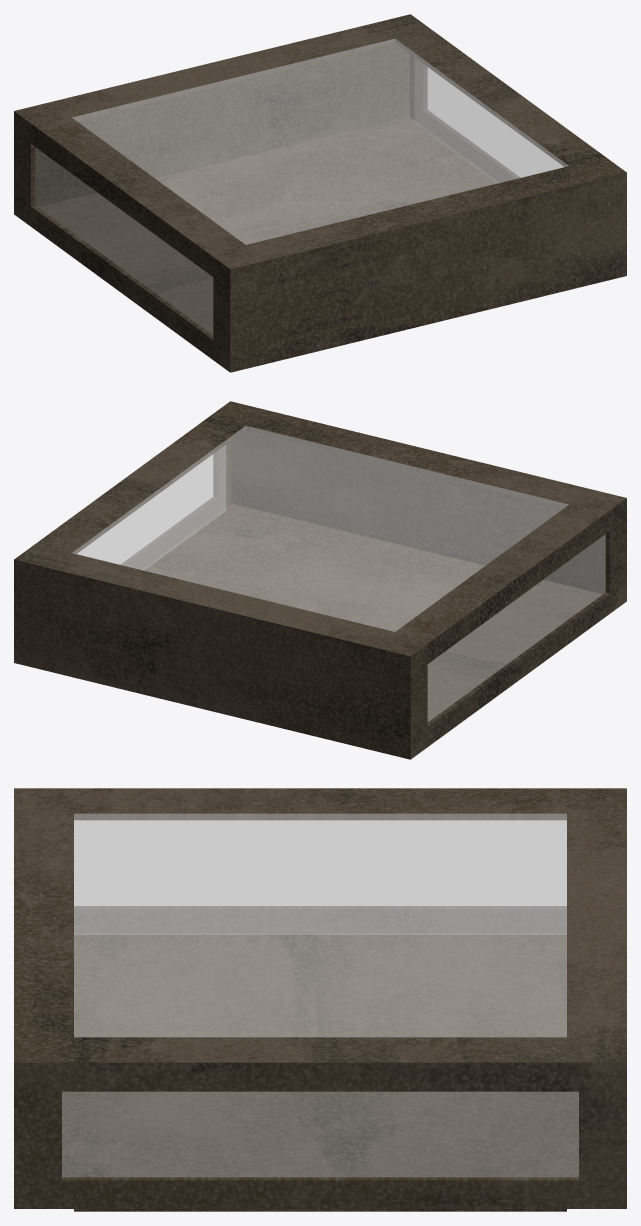
The model's file is living_table.fbx.
3 views of the same model, one above another, from view 1: azimuth 30°, elevation 25°; view 2: azimuth 150°, elevation 25°; view 3: azimuth 270°, elevation 25° (orthographic). The views are drawn at different scales.
Visible parts, largest first — view 1: 立方体.033, 立方体.031, 立方体.032; view 2: 立方体.033, 立方体.031, 立方体.032; view 3: 立方体.033, 立方体.031, 立方体.032, 立方体.056.
Part boxes in pixels (left/top/right/bottom): 立方体.033: left=14, top=14, right=626, bottom=372; 立方体.031: left=72, top=39, right=568, bottom=244; 立方体.032: left=35, top=58, right=563, bottom=334; 立方体.033: left=14, top=401, right=626, bottom=759; 立方体.031: left=72, top=426, right=568, bottom=631; 立方体.032: left=77, top=445, right=605, bottom=721; 立方体.033: left=14, top=788, right=626, bottom=1208; 立方体.031: left=74, top=813, right=566, bottom=1037; 立方体.032: left=62, top=820, right=578, bottom=1177; 立方体.056: left=74, top=1209, right=566, bottom=1211.
Size of what is drawn, in the model's own units: 91.47 by 27.35 by 86.43.
